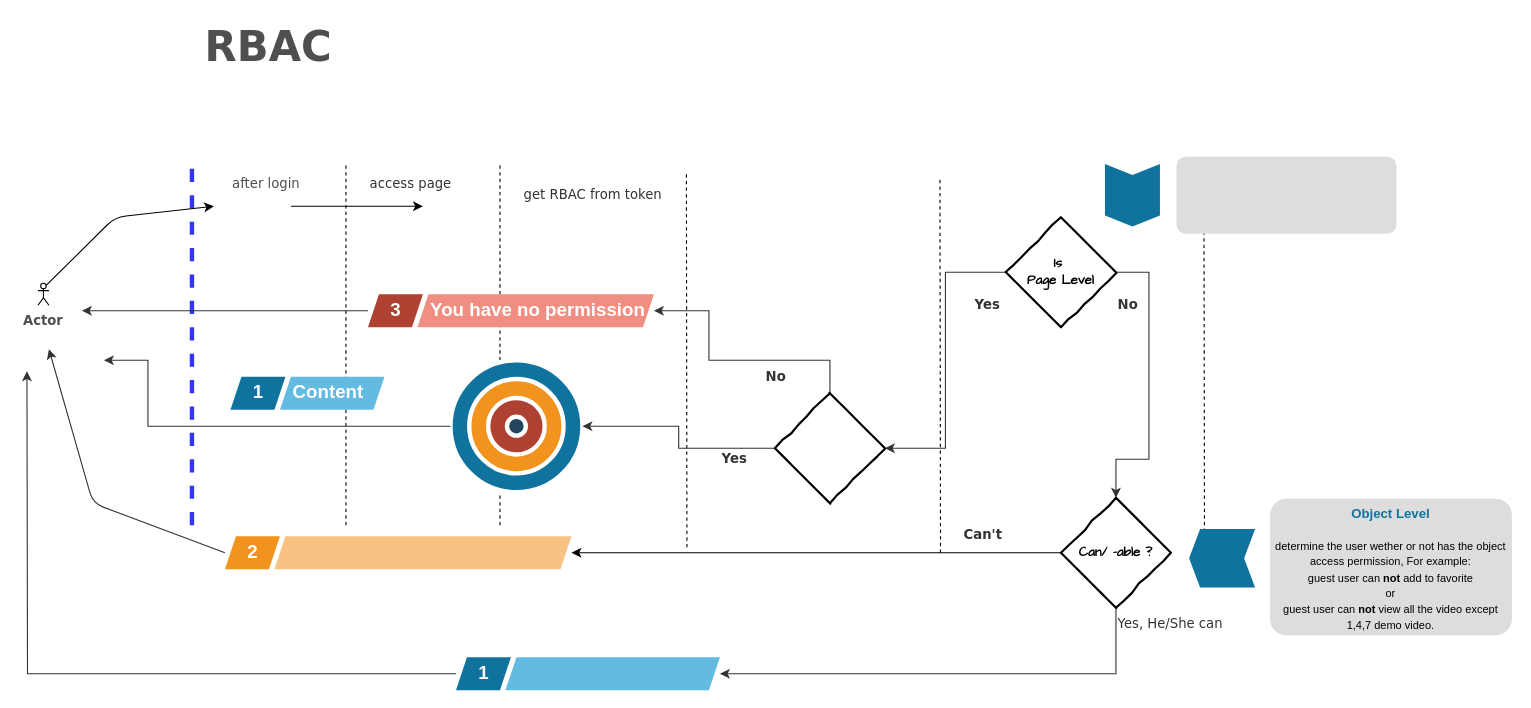
Image size: 1531x708. Some labels were removed from this diagram. Each missing label, with the centre of its shape:
disable content from template: the point at 422,552
Format the content: the point at 612,673
Has Page Permission?: the point at 829,448
Page Level base on the routers checking. For example: /admin/dashboard: the point at 1286,194
